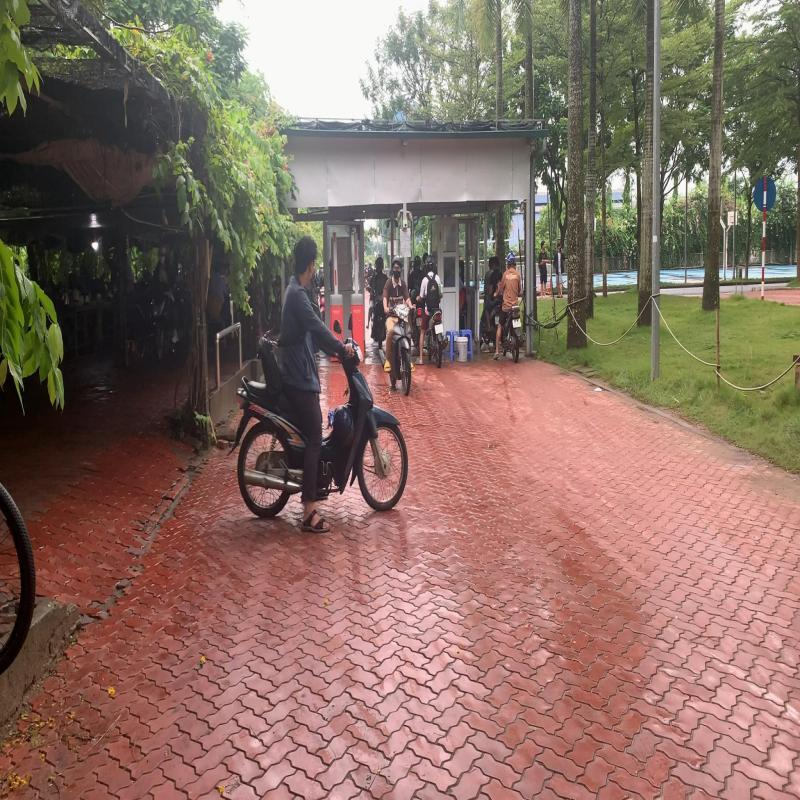nohelmet: (291, 231, 320, 288)
